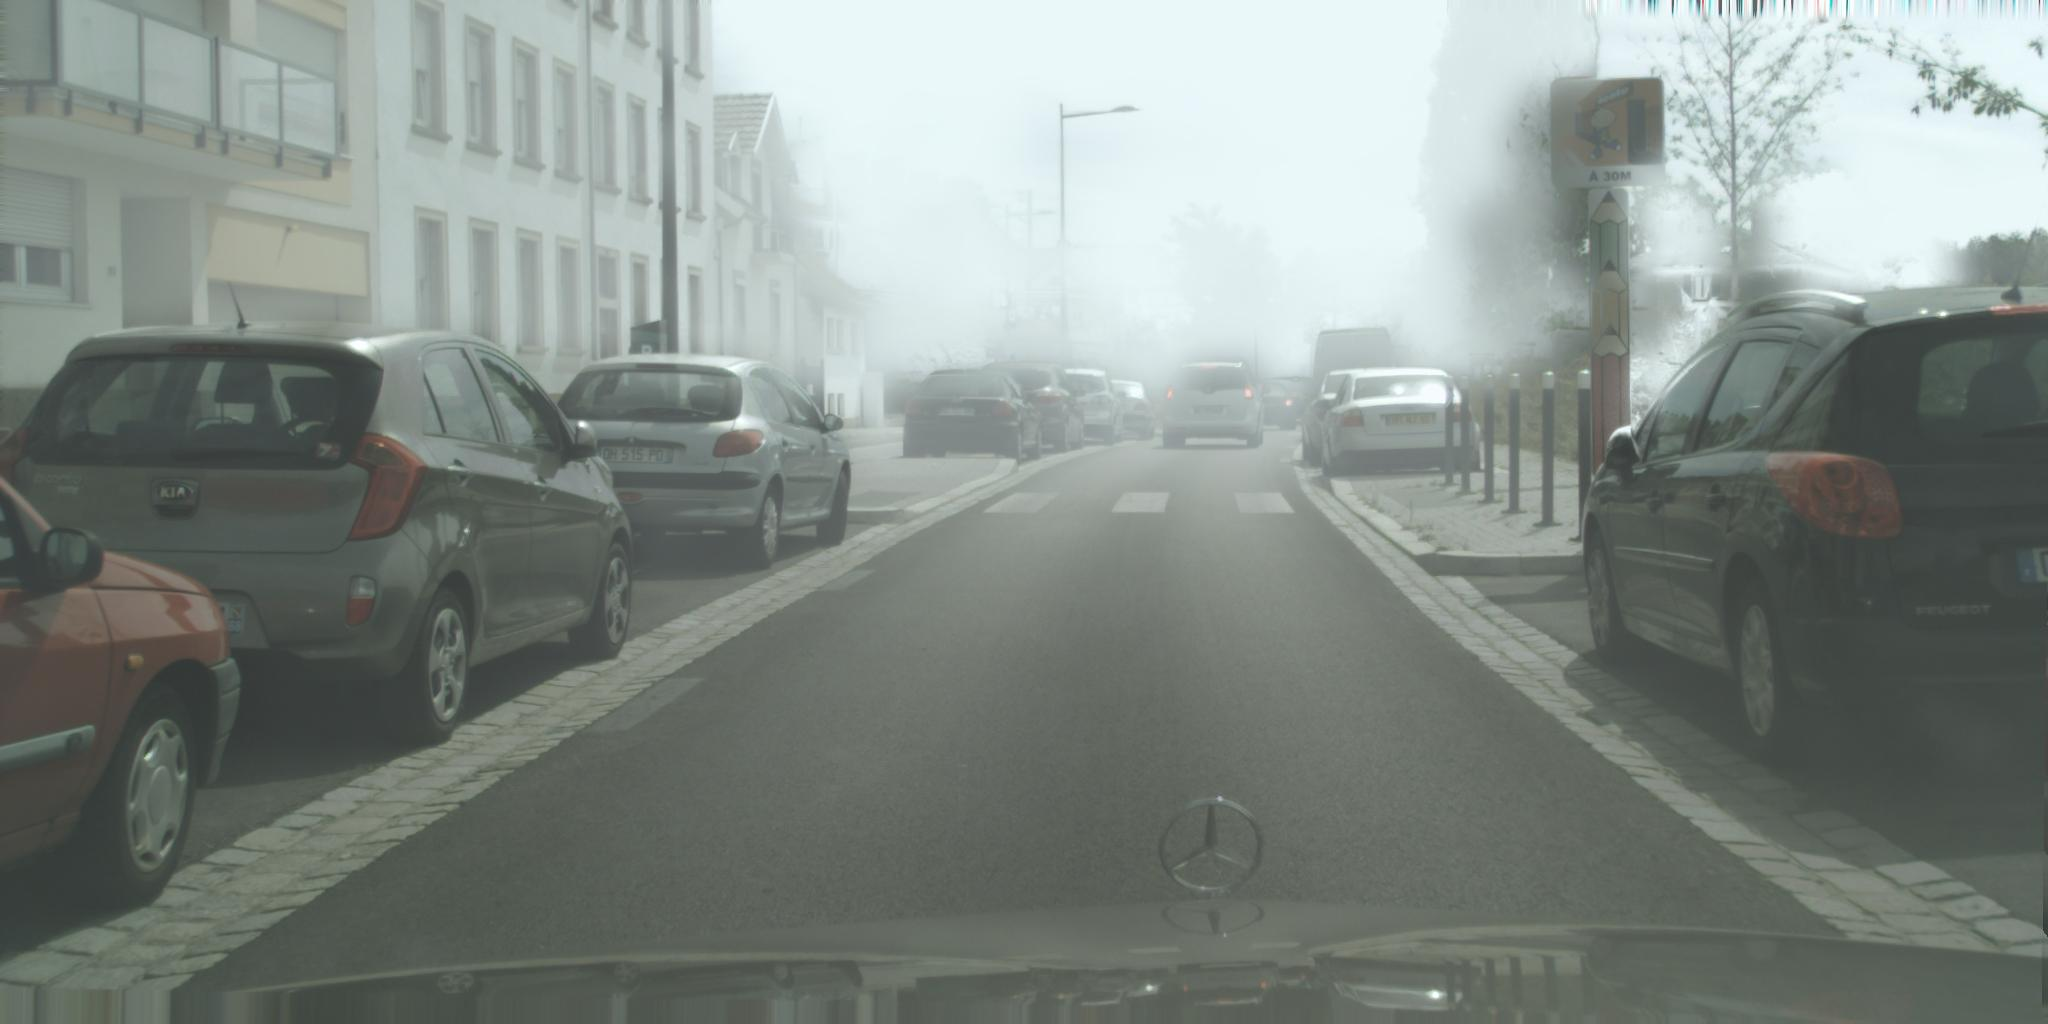car: (1, 282, 635, 743), (1583, 226, 2048, 771), (1, 474, 243, 910), (552, 354, 852, 567), (1315, 367, 1481, 478), (904, 370, 1044, 466), (980, 363, 1087, 455), (1300, 368, 1398, 468), (1162, 362, 1272, 449), (1314, 328, 1398, 404), (1061, 370, 1127, 447), (1108, 380, 1161, 441), (1254, 377, 1327, 415), (1249, 384, 1304, 430)
